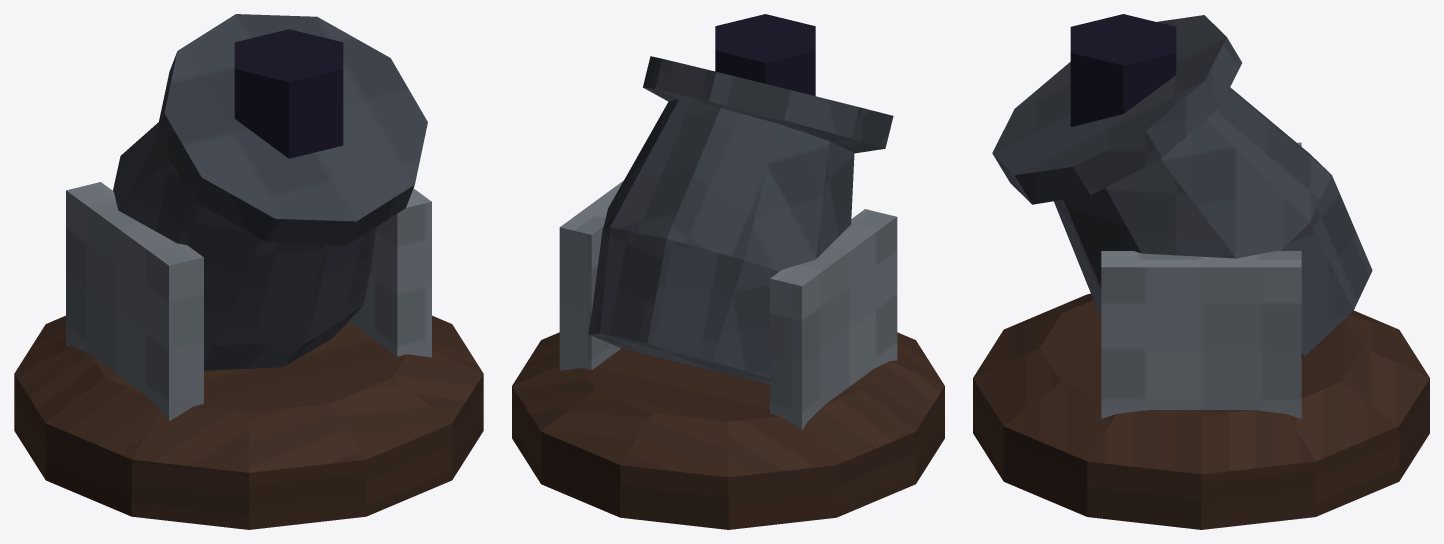
The model's file is SM_Prop_DeckMortar_HQ.glb.
3 views of the same model, side by side, from view 1: azimuth 30°, elevation 25°; view 2: azimuth 150°, elevation 25°; view 3: azimuth 270°, elevation 25° (orthographic). The views are drawn at different scales.
Visible parts, largest first — view 1: SM_Prop_DeckMortar_HQ; view 2: SM_Prop_DeckMortar_HQ; view 3: SM_Prop_DeckMortar_HQ.
Part boxes in pixels (x1,y1,x2,y2): SM_Prop_DeckMortar_HQ: (14, 14, 483, 529); SM_Prop_DeckMortar_HQ: (512, 14, 944, 529); SM_Prop_DeckMortar_HQ: (973, 14, 1429, 529).
Size of the model in its own units: 1.64 by 1.57 by 1.64.
Materials: 1 (1 with a texture image).
